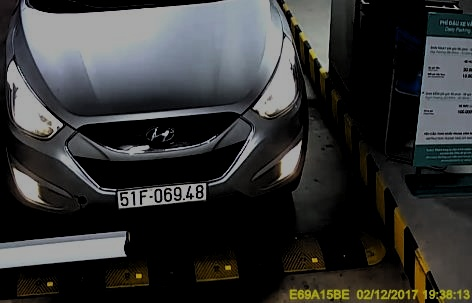plate: (111, 183, 211, 205)
